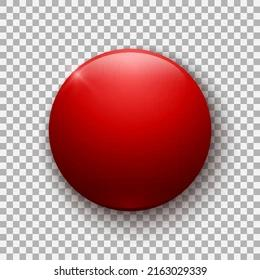red_circle: (47, 48, 214, 213)
